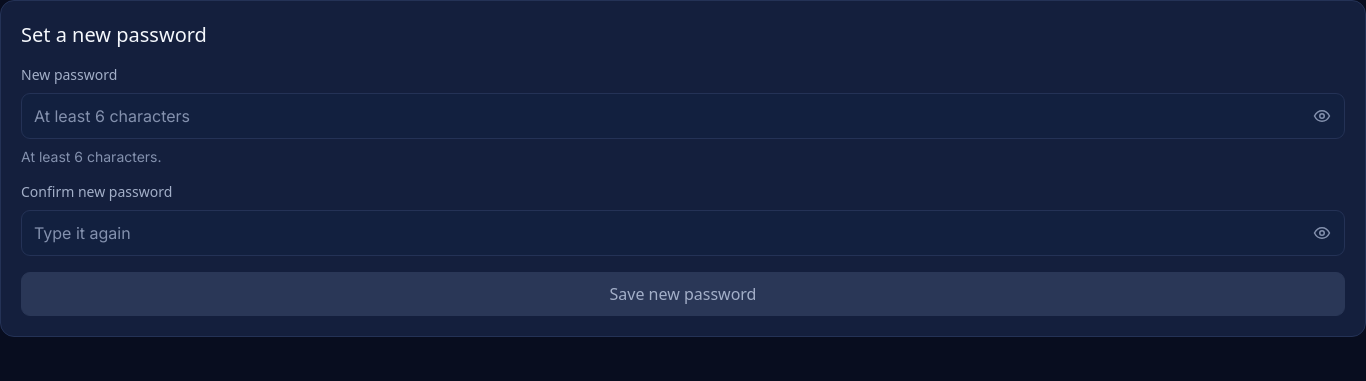
Test case: UpdatePasswordForm breach-corpus gate › spends no lookup when the confirmation does not match
The image size is (1366, 381).
Type "correct horse battery staple" into the password field labelled "New password" at (661, 116), box [22,94,1300,138]
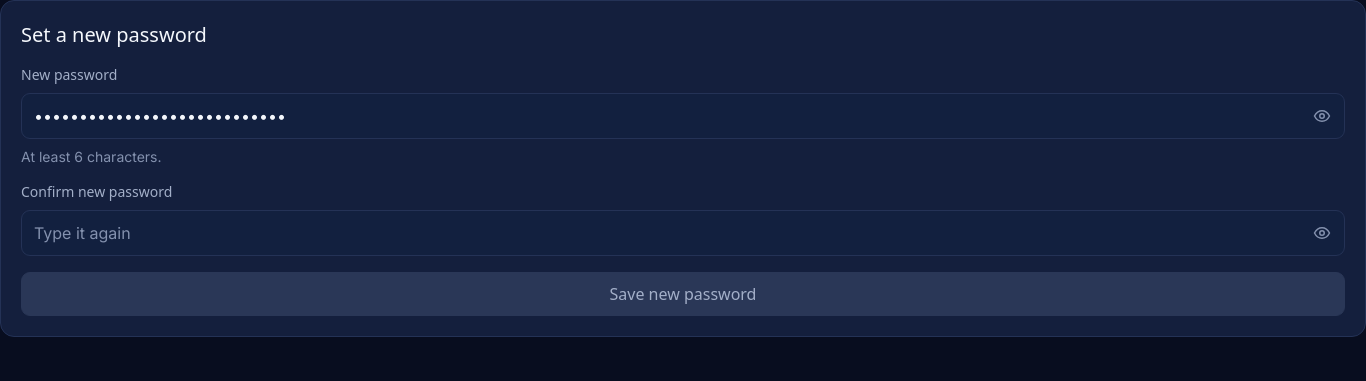
Type "something else" into the password field labelled "Confirm new password" at (661, 233), box [22,211,1300,255]
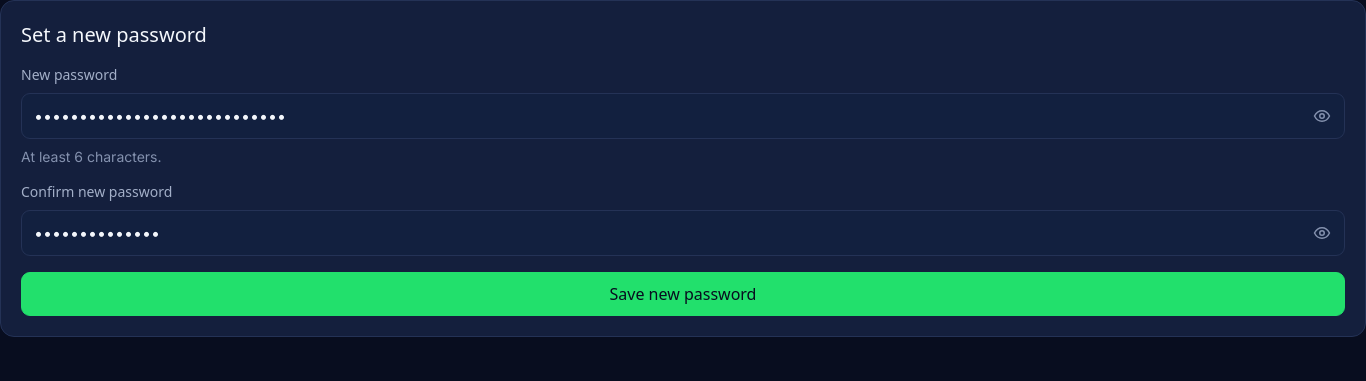
Click the button "Save new password" at (683, 294), box [21,272,1345,316]
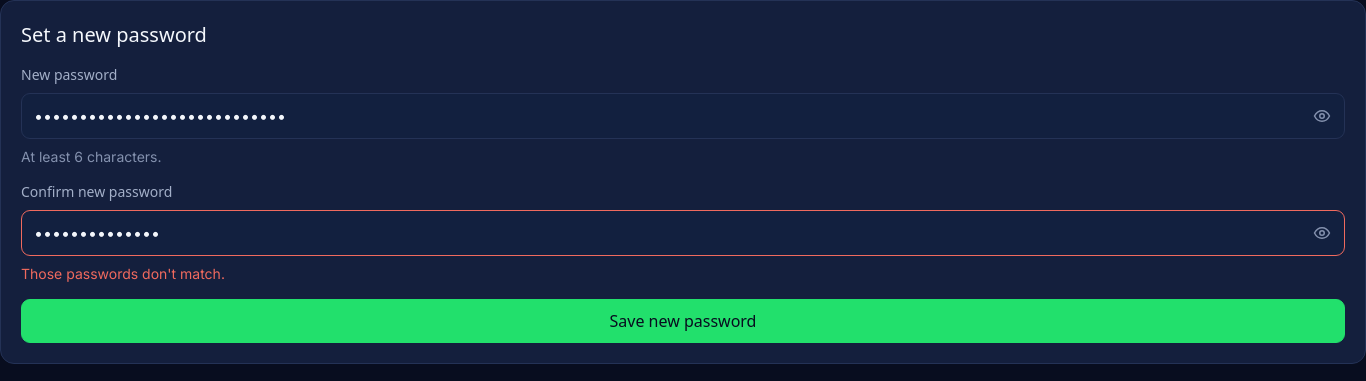
expect the text "Those passwords don't match." is shown: met, box [21,265,225,282]
